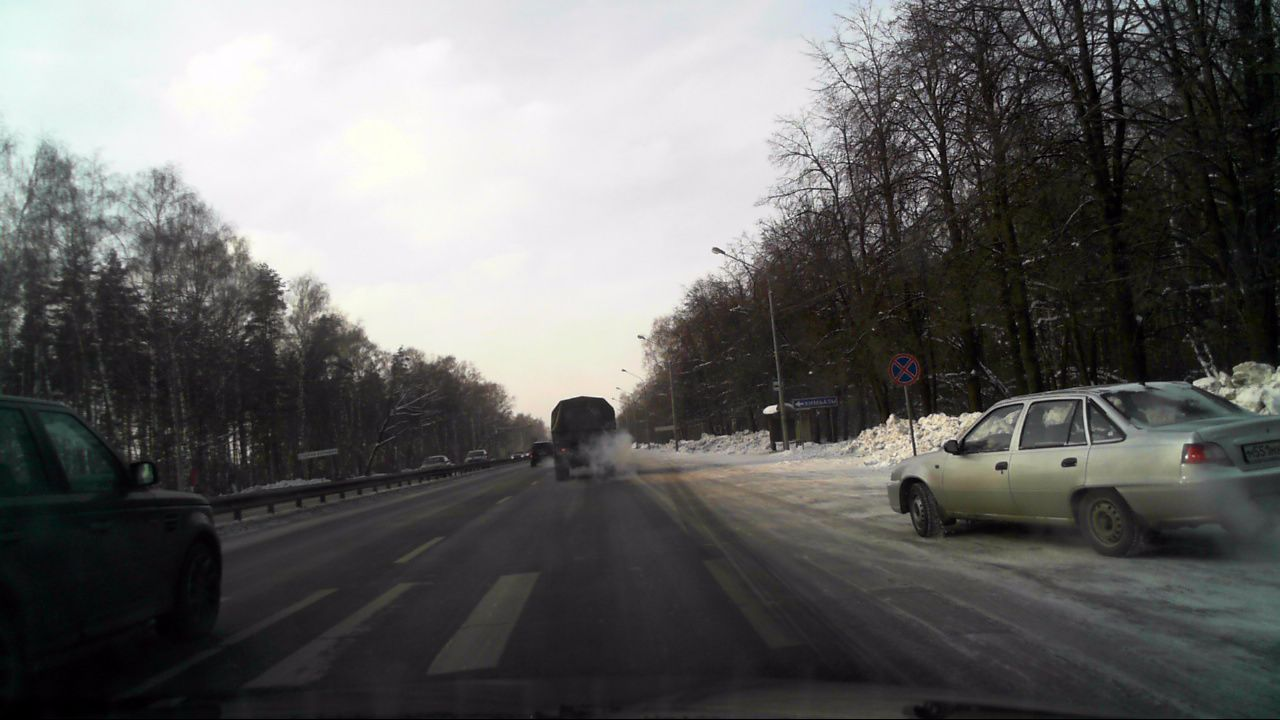No Parking: (888, 353, 919, 387)
